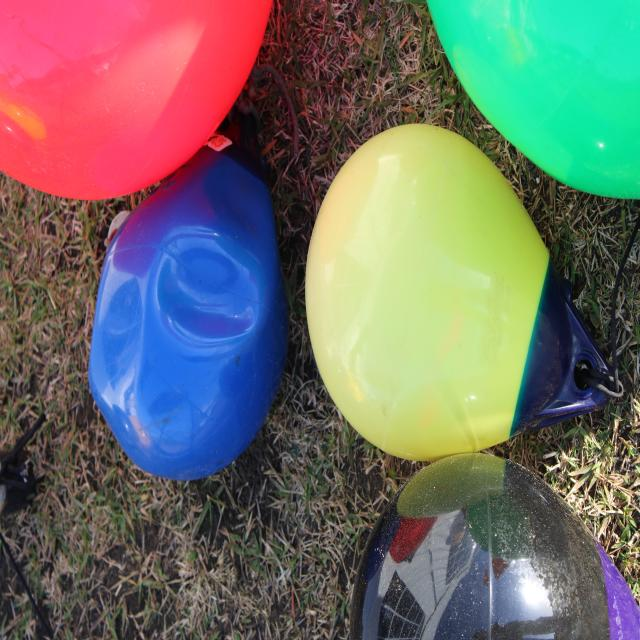black-buoy: (342, 464, 640, 640)
blue-buoy: (88, 133, 284, 488)
green-buoy: (430, 0, 640, 200)
red-buoy: (0, 0, 362, 212)
yellow-buoy: (298, 114, 564, 468)
